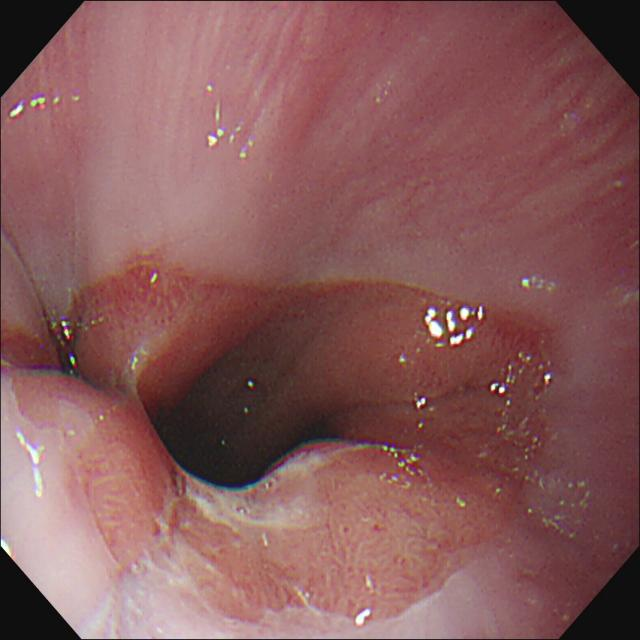I: (68, 189, 409, 358), (240, 508, 518, 637), (485, 302, 590, 482), (45, 434, 152, 598)
U: (205, 81, 257, 161), (540, 480, 590, 540), (425, 303, 488, 350), (491, 352, 554, 396), (16, 430, 51, 500), (6, 96, 84, 123), (379, 446, 429, 483), (520, 273, 560, 295), (353, 608, 376, 630), (412, 394, 431, 412)
